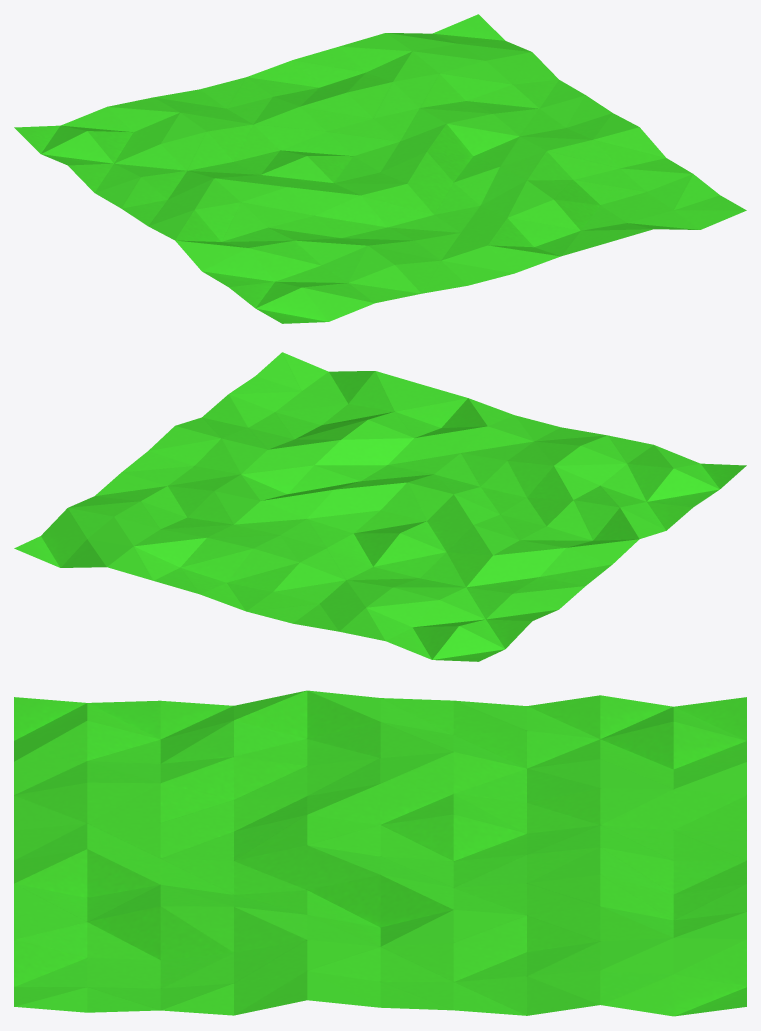
Rendered from metacave4.gltf.
3 renders of one model, top to bottom at view 1: azimuth 30°, elevation 25°; view 2: azimuth 150°, elevation 25°; view 3: azimuth 270°, elevation 25°, orthographic. The views are drawn at different scales.
Parts seen in each view (by area): view 1: Plane.002; view 2: Plane.002; view 3: Plane.002.
Part boxes in pixels (<box>): Plane.002: <box>14,14,746,323</box>; Plane.002: <box>14,352,746,661</box>; Plane.002: <box>14,690,746,1016</box>.
Size of the model in its own units: 10 by 0.3544 by 10.
Materials: 1 (1 with a texture image).
